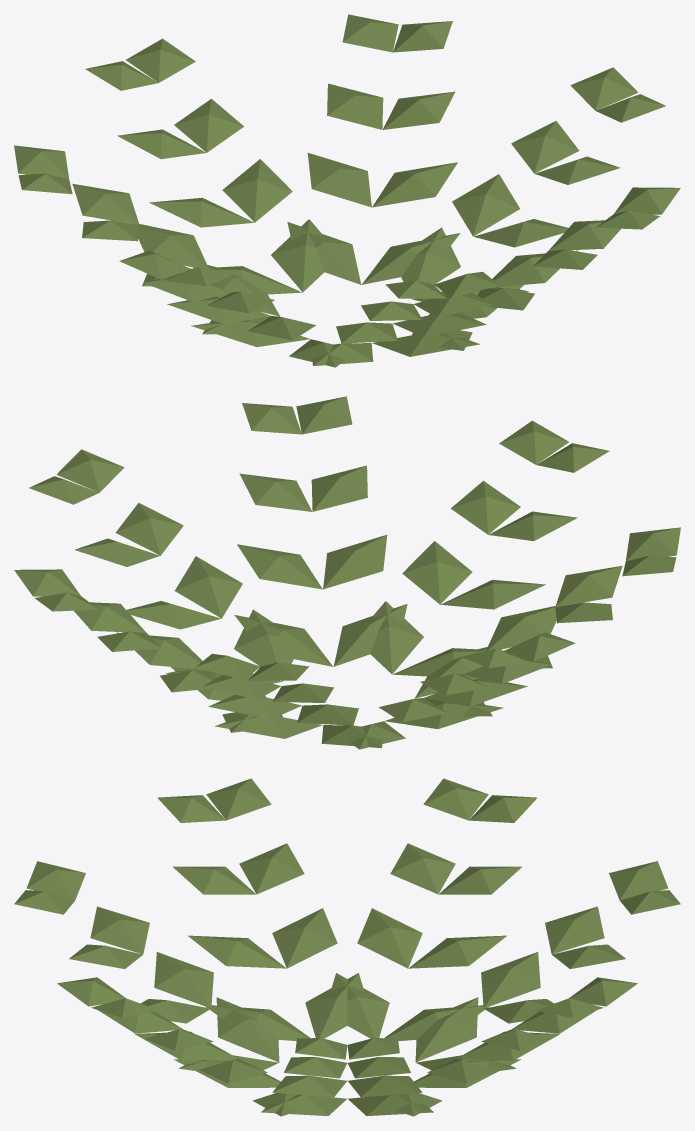
File: sedge.glb
The picture shows the model from 3 angles, top to bottom: view 1: azimuth 30°, elevation 25°; view 2: azimuth 150°, elevation 25°; view 3: azimuth 270°, elevation 25°; orthographic projection.
Parts seen in each view (by area): view 1: sedge; view 2: sedge; view 3: sedge.
Part boxes in pixels (x1,y1,x2,y2): sedge: (14, 14, 680, 367); sedge: (14, 396, 680, 749); sedge: (14, 778, 680, 1116).
Bounding box in the file's own units: 1.12 × 0.3036 × 1.15.
